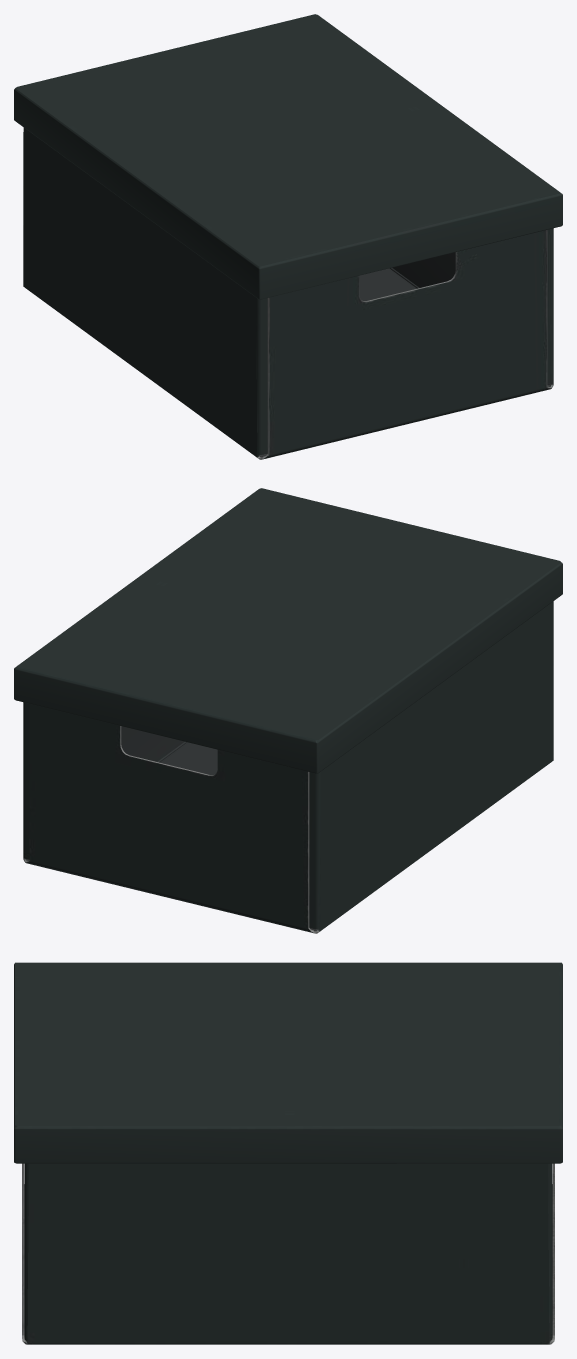
Rendered from fjaderharv_pojemnik_z_pokrywka_80596888.glb.
The picture shows the model from 3 angles, top to bottom: view 1: azimuth 30°, elevation 25°; view 2: azimuth 150°, elevation 25°; view 3: azimuth 270°, elevation 25°; orthographic projection. The views are drawn at different scales.
Parts seen in each view (by area): view 1: fjaderharv_pojemnik_z_pokrywka_80596888; view 2: fjaderharv_pojemnik_z_pokrywka_80596888; view 3: fjaderharv_pojemnik_z_pokrywka_80596888.
Boxes of the visible parts, left/top/right/bottom form: fjaderharv_pojemnik_z_pokrywka_80596888: left=14, top=14, right=562, bottom=459; fjaderharv_pojemnik_z_pokrywka_80596888: left=14, top=488, right=562, bottom=933; fjaderharv_pojemnik_z_pokrywka_80596888: left=14, top=962, right=562, bottom=1344.
Size of the model in its own units: 0.25 by 0.1555 by 0.35.
2 materials, 2 textured.
